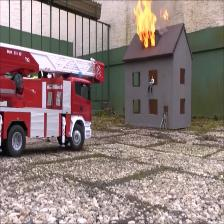fire: (133, 1, 160, 49)
